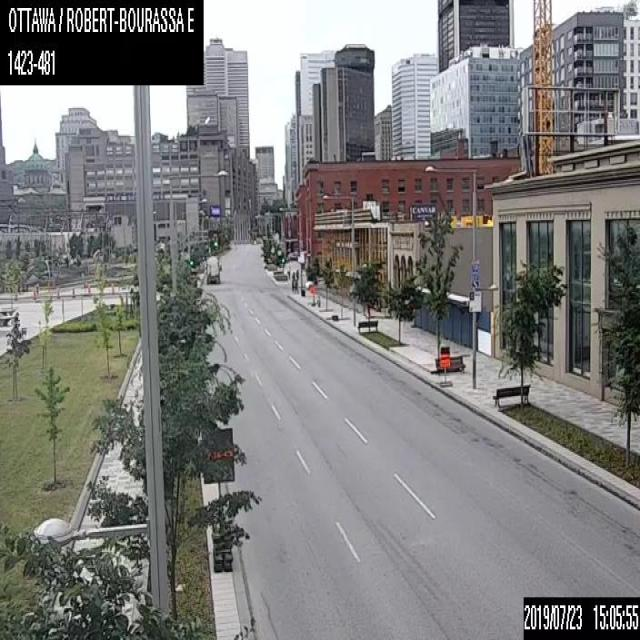construction: (201, 426, 233, 572), (438, 352, 450, 385), (309, 284, 316, 305)
pedestrian: (294, 278, 298, 294), (290, 278, 294, 293), (295, 268, 299, 279), (287, 266, 290, 280), (292, 271, 294, 280)
vehicle: (205, 253, 220, 283)
